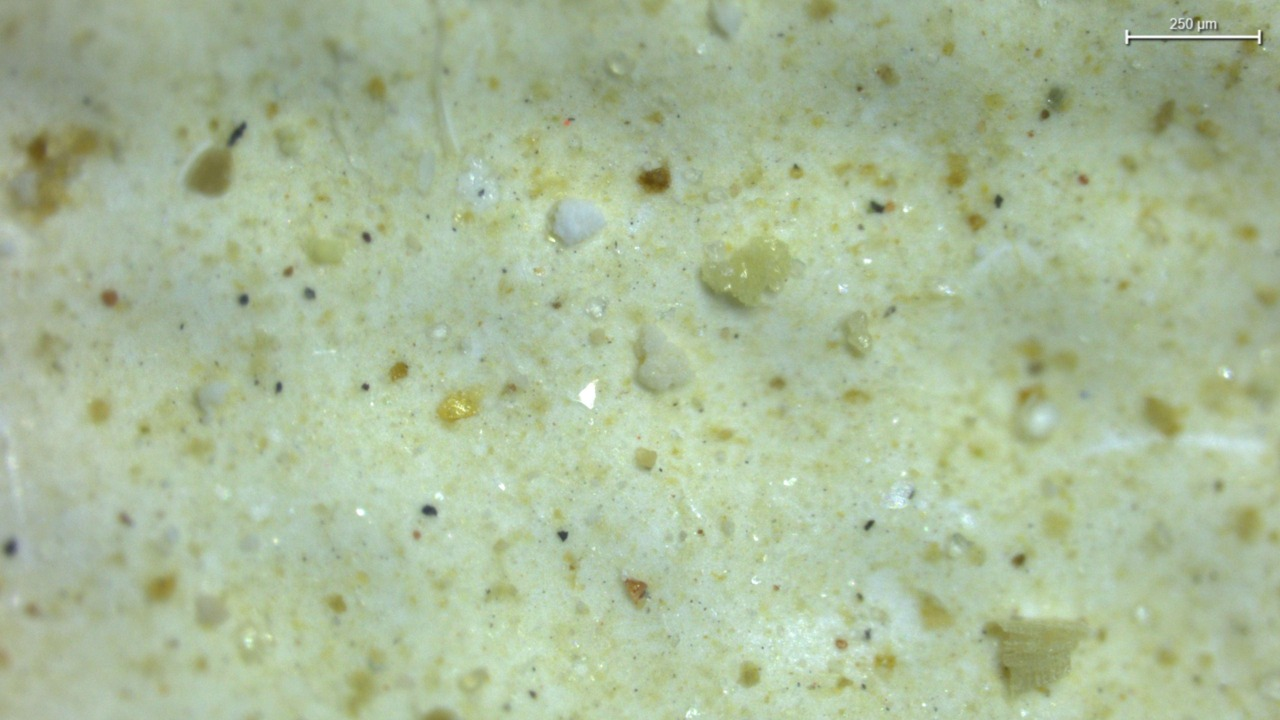microplastic_fragment: (984, 617, 1087, 694), (700, 235, 792, 306), (634, 325, 692, 393), (552, 199, 605, 246)
